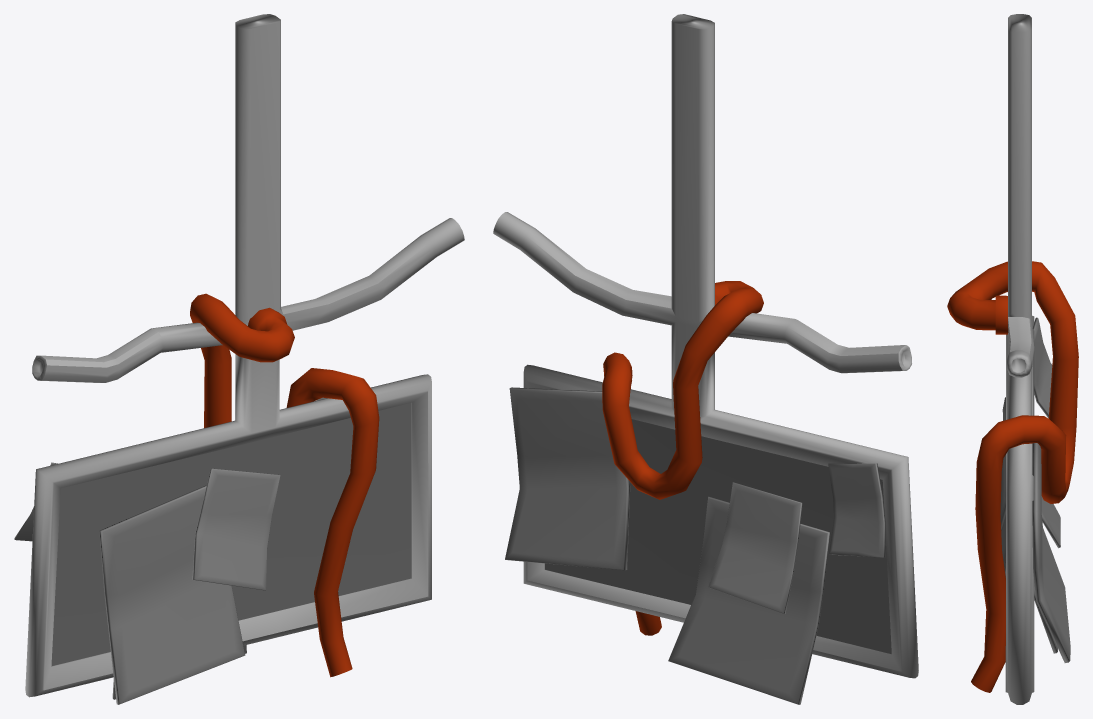
The model's file is WreckagePiece_01.fbx.
3 views of the same model, side by side, from view 1: azimuth 30°, elevation 25°; view 2: azimuth 150°, elevation 25°; view 3: azimuth 270°, elevation 25° (orthographic). The views are drawn at different scales.
Parts seen in each view (by area): view 1: WreckagePiece_01; view 2: WreckagePiece_01; view 3: WreckagePiece_01.
Part boxes in pixels (box(x1,y1,x2,y2)): WreckagePiece_01: box(14, 14, 464, 704); WreckagePiece_01: box(493, 14, 918, 704); WreckagePiece_01: box(947, 14, 1078, 704).
Size of the model in its own units: 5.99 by 8.72 by 1.63.
